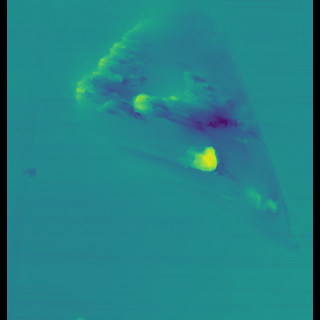Loch: (68, 19, 279, 224)
